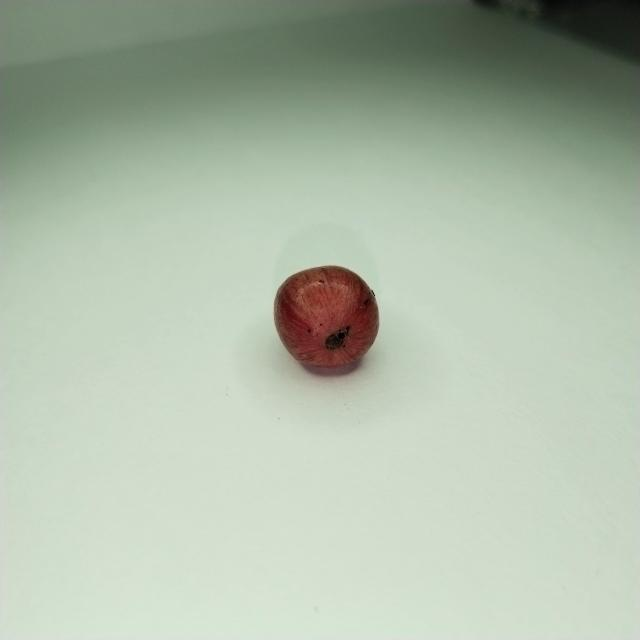Infectado: (272, 265, 381, 379)
